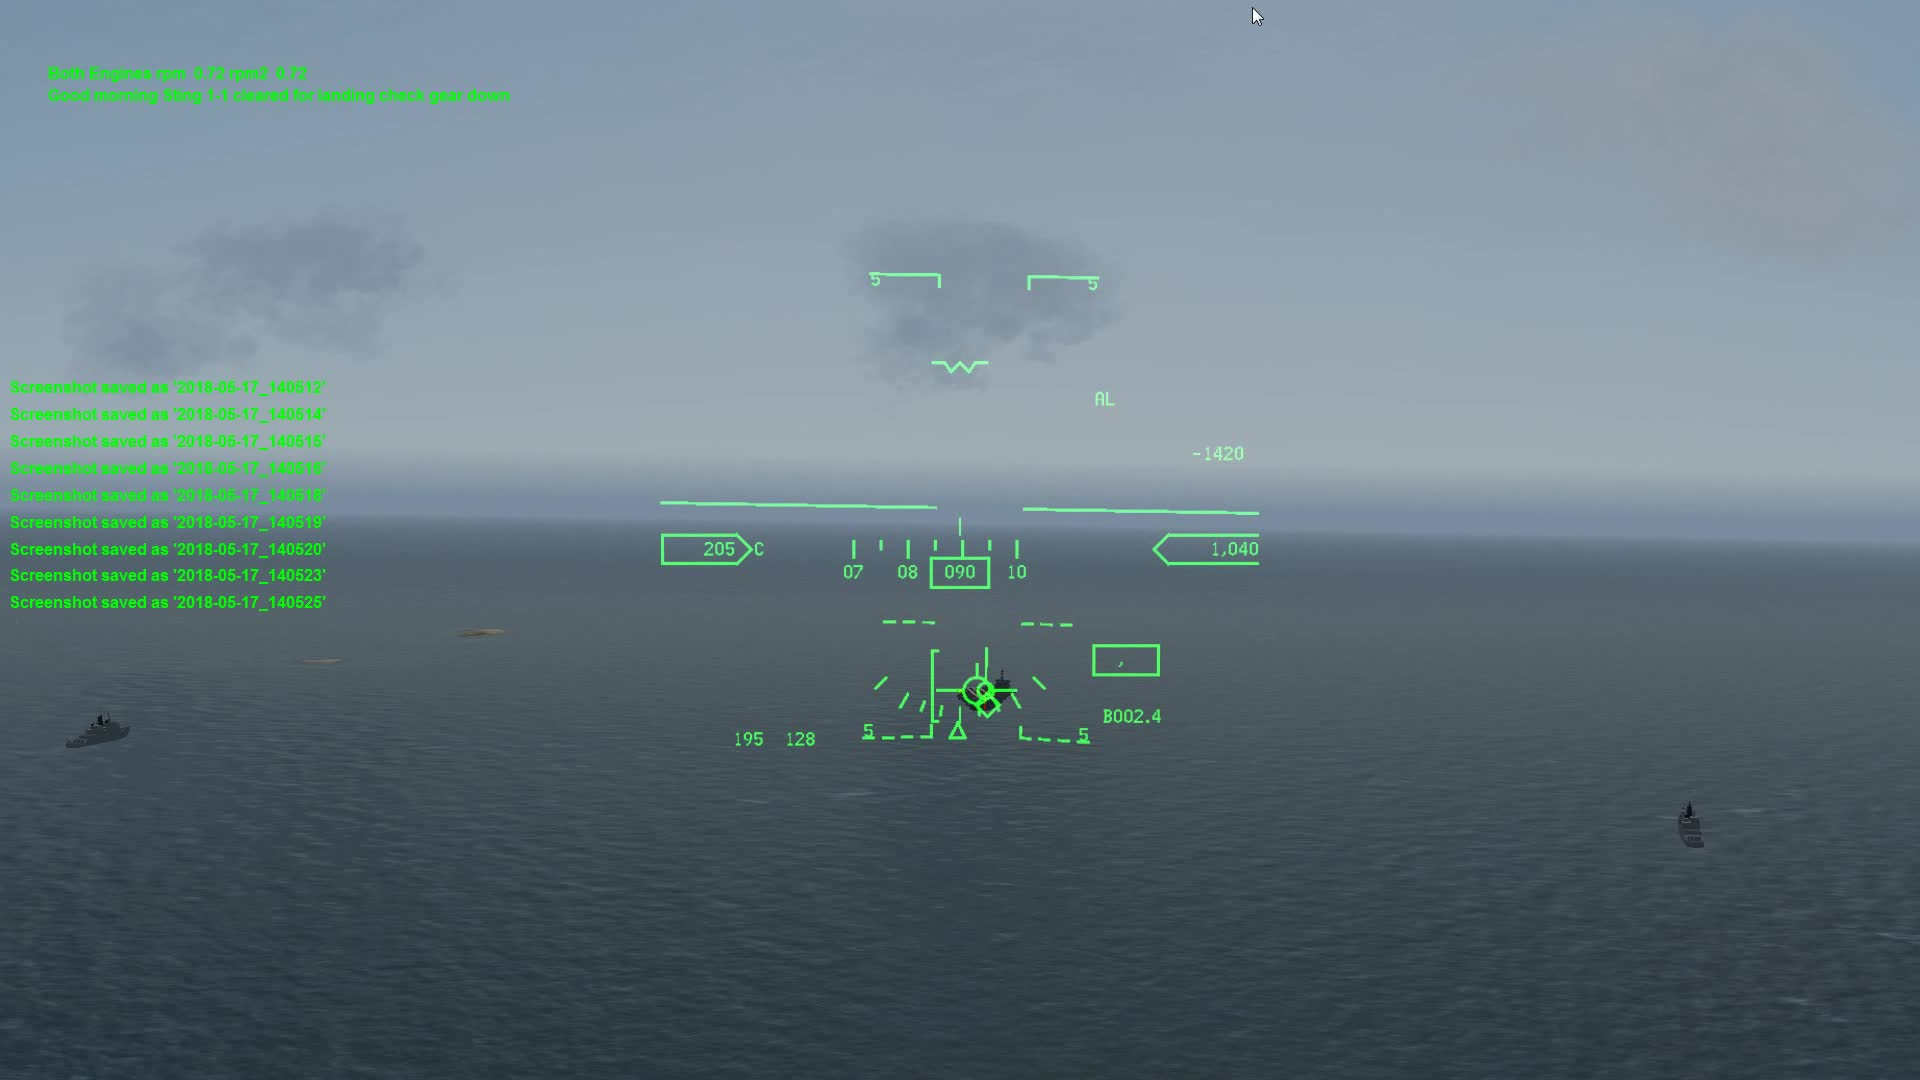speed vector: (938, 649, 1022, 708)
